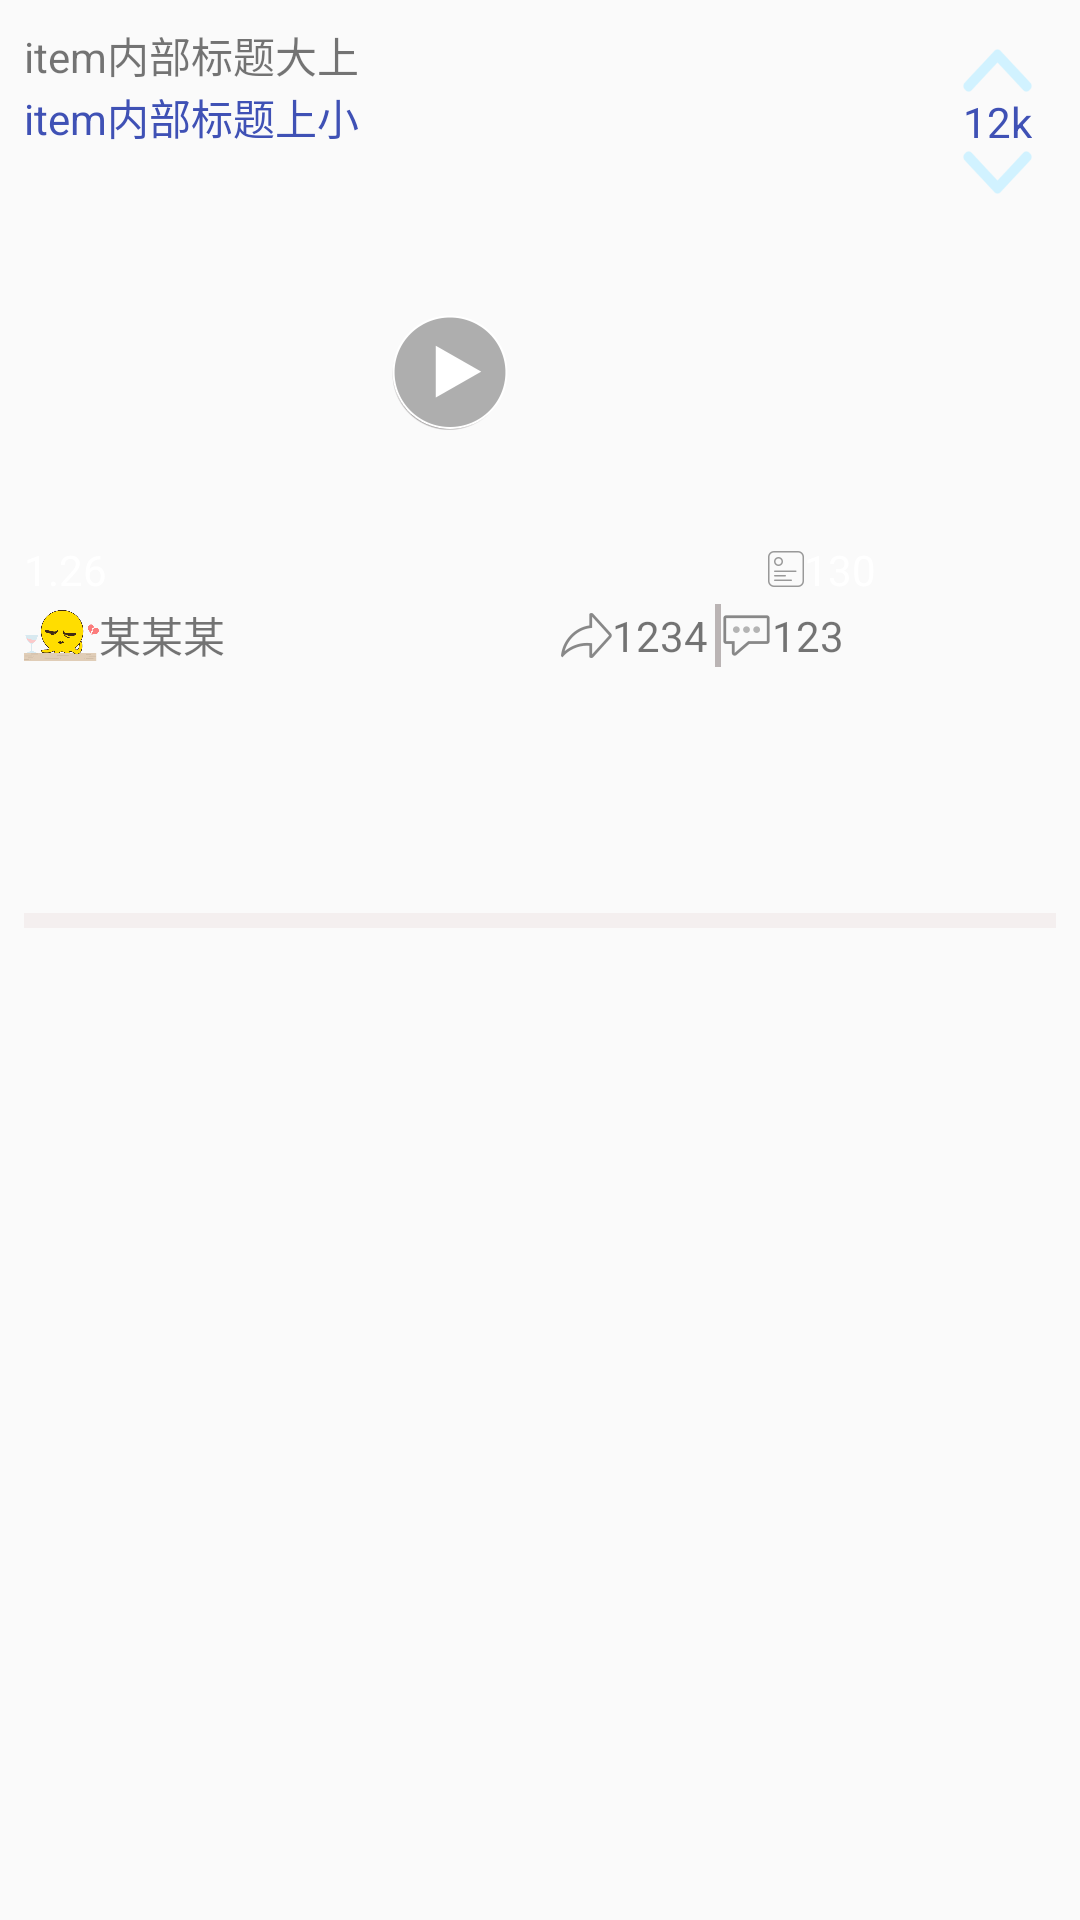

Icon bounding boxes for this 1080*1920 phone screenshot, format (x1, y1, x2, y2):
shipin item downarraw: (964, 152, 1031, 193)
shipin item uparraw: (964, 50, 1031, 91)
video play: (394, 317, 506, 430)
